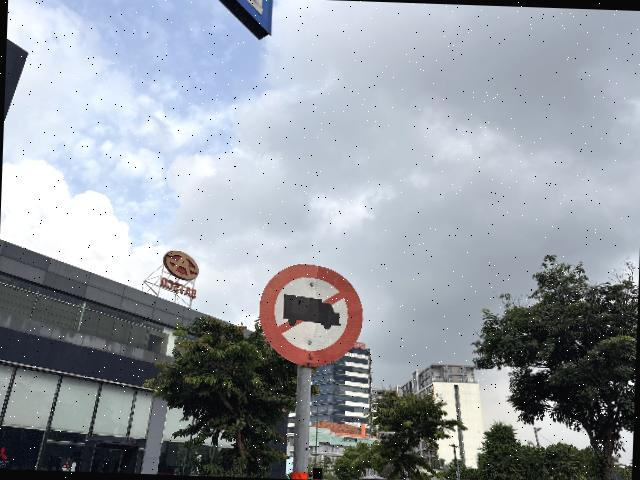cam-xe-tai: (258, 262, 365, 369)
